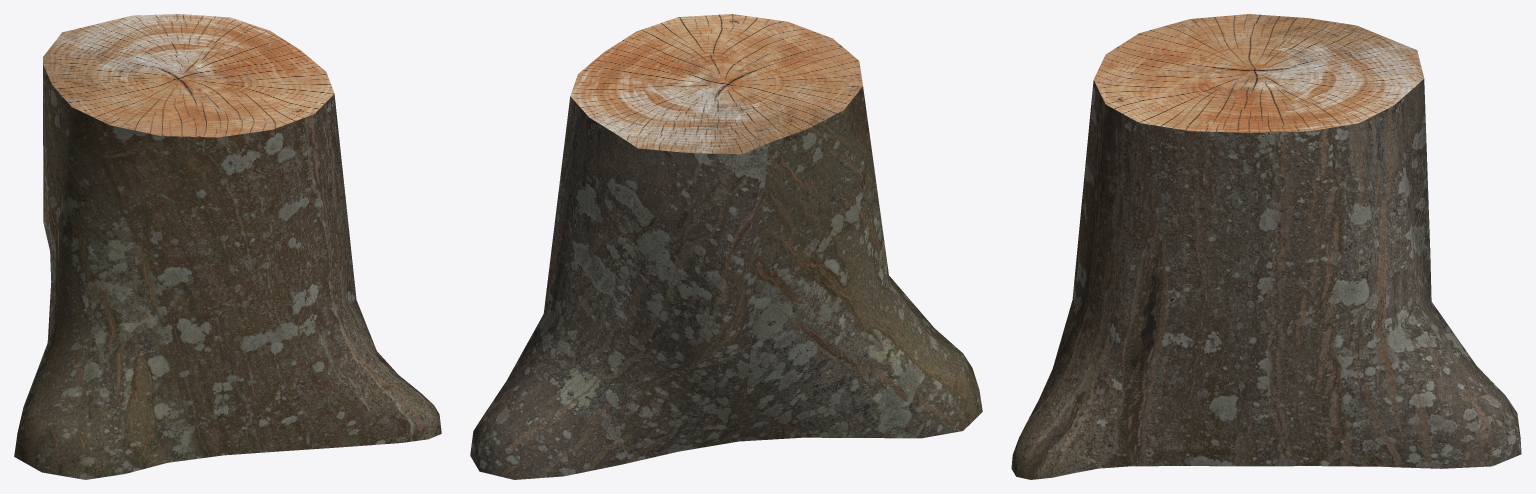
The picture shows the model from 3 angles, left to right: view 1: azimuth 30°, elevation 25°; view 2: azimuth 150°, elevation 25°; view 3: azimuth 270°, elevation 25°; orthographic projection. The views are drawn at different scales.
Visible parts, largest first — view 1: Cylinder.001_Baked; view 2: Cylinder.001_Baked; view 3: Cylinder.001_Baked.
Part boxes in pixels (x1=…): Cylinder.001_Baked: x1=14, y1=14, x2=441, y2=479; Cylinder.001_Baked: x1=470, y1=14, x2=982, y2=479; Cylinder.001_Baked: x1=1011, y1=14, x2=1521, y2=479.
Size of the model in its own units: 119 by 99.76 by 140.
Materials: 1 (1 with a texture image).
